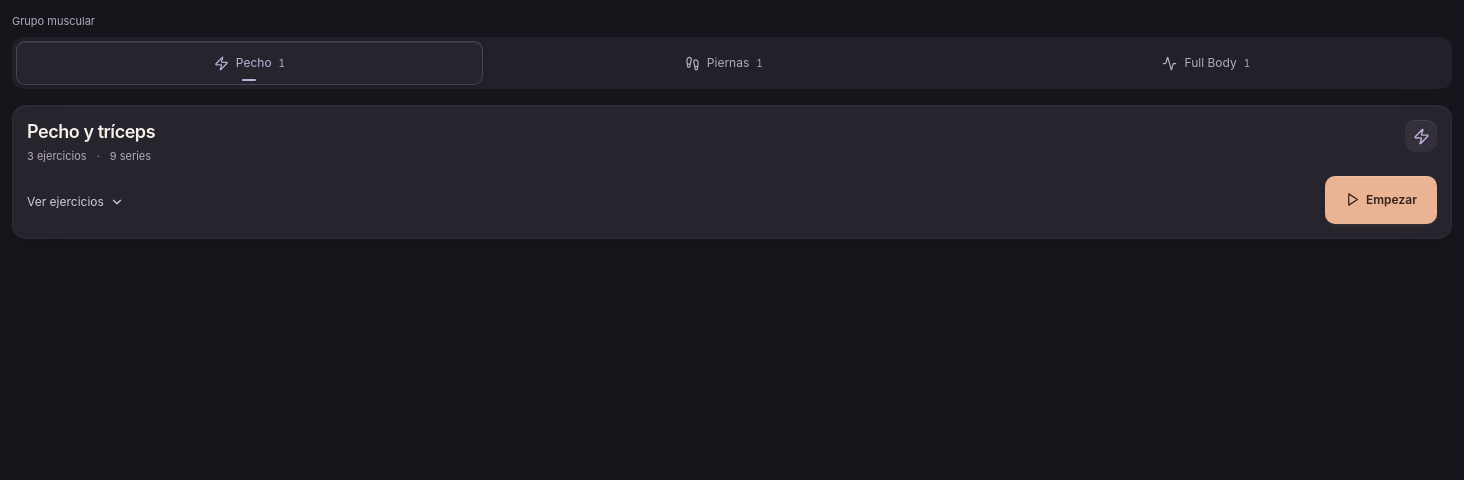
it: agenda routine selection › omits scroll hints when all groups fit and preserves public authorship
The image size is (1464, 480).
Click the button "Full Body 1" at (1206,63), box [965,41,1448,85]
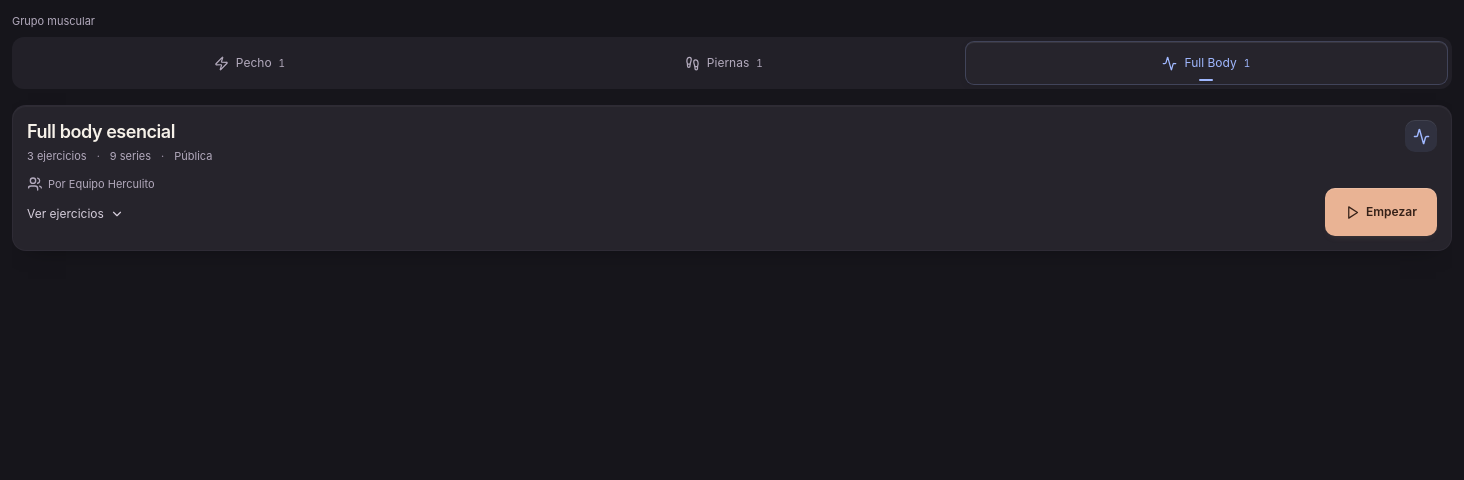
Now the text "Por Equipo Herculito" is shown, box [48,176,154,192]
Now the text "Pública" is shown, box [161,148,212,166]
Click the button "Ver ejercicios" at (80,214), box [27,192,134,236]
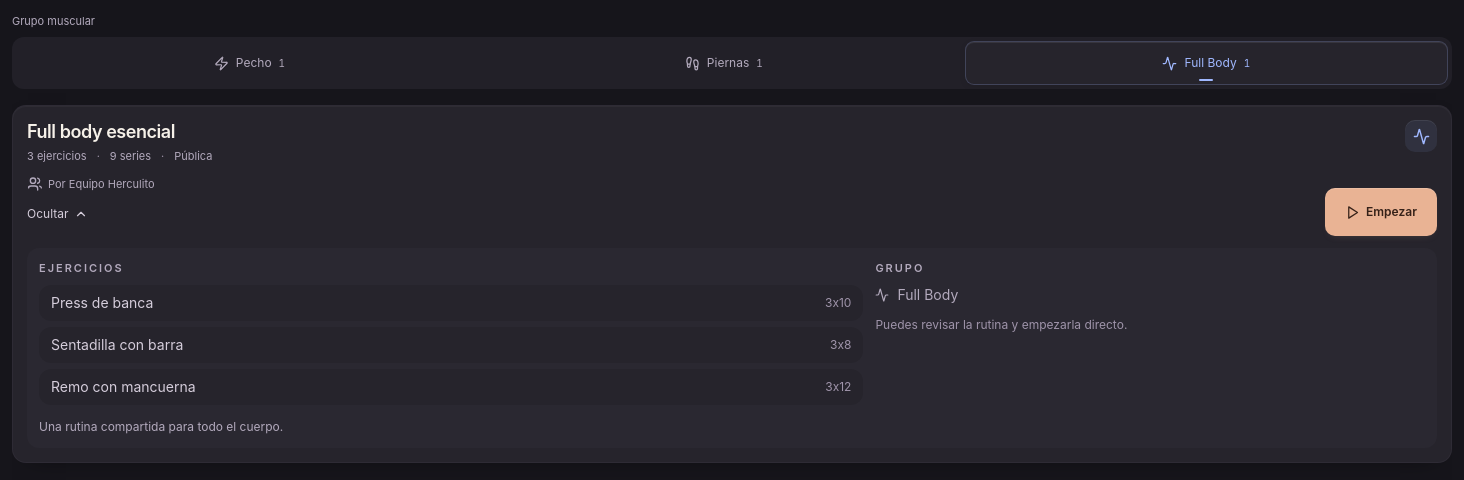
Now the text "Press de banca" is shown, box [51,293,153,313]
